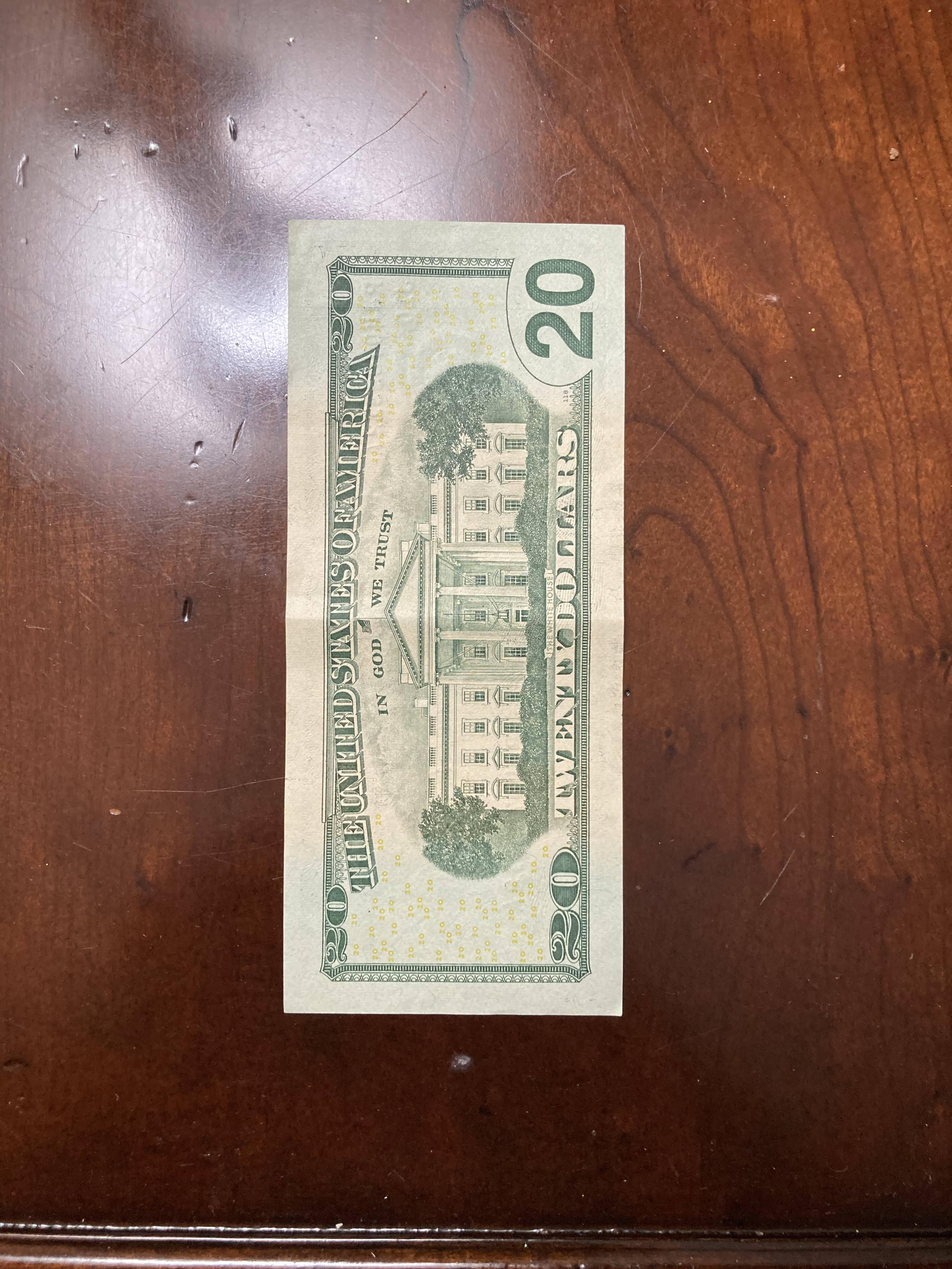twenty-back: (281, 215, 629, 1018)
